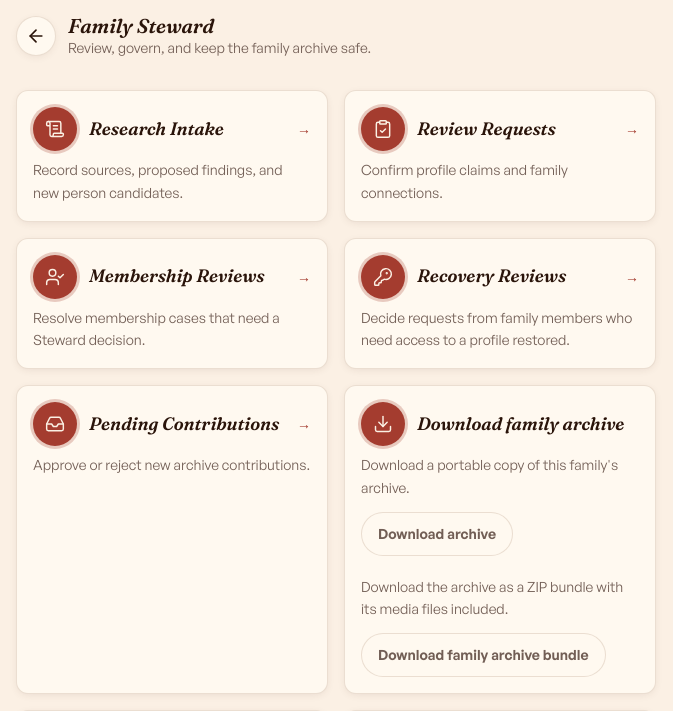
Test: bundle generation journey › shows the 'Download started' success copy
The width and height of the screenshot is (673, 711).
Step 1. Click the button with test id "steward_hub.download_bundle_button" → [483, 655], box [361, 633, 606, 677]
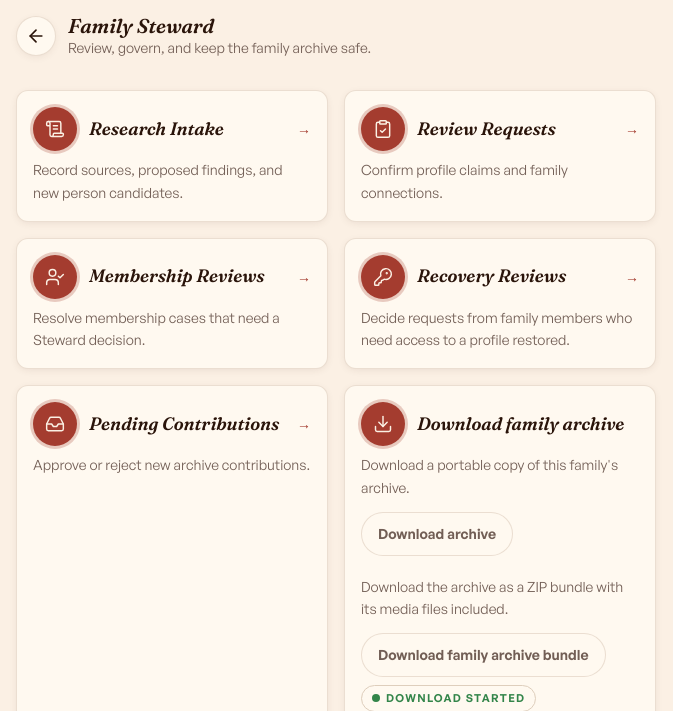
Expected: the text with test id "steward_hub.download_bundle_success_state" reads "Download started", [386, 691, 525, 705]
